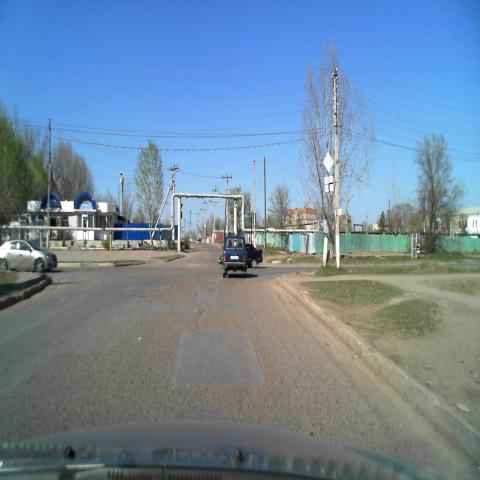2_1: (322, 153, 334, 174)
8_13: (324, 175, 333, 193)
